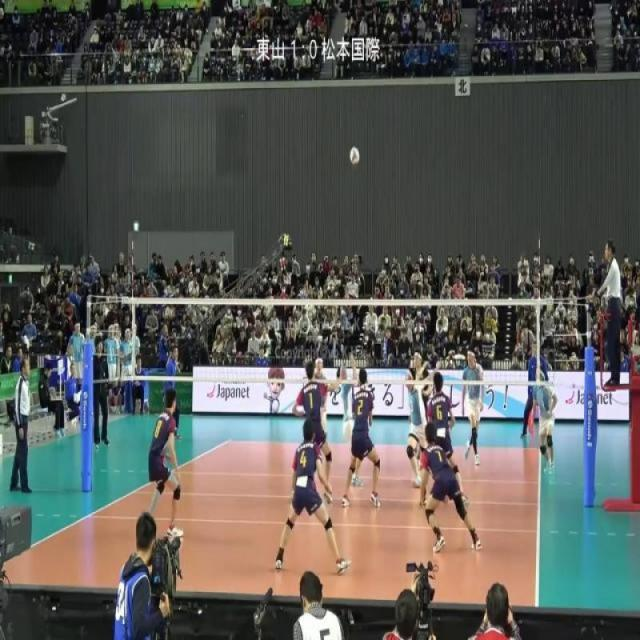volleyball: (349, 145, 361, 165)
